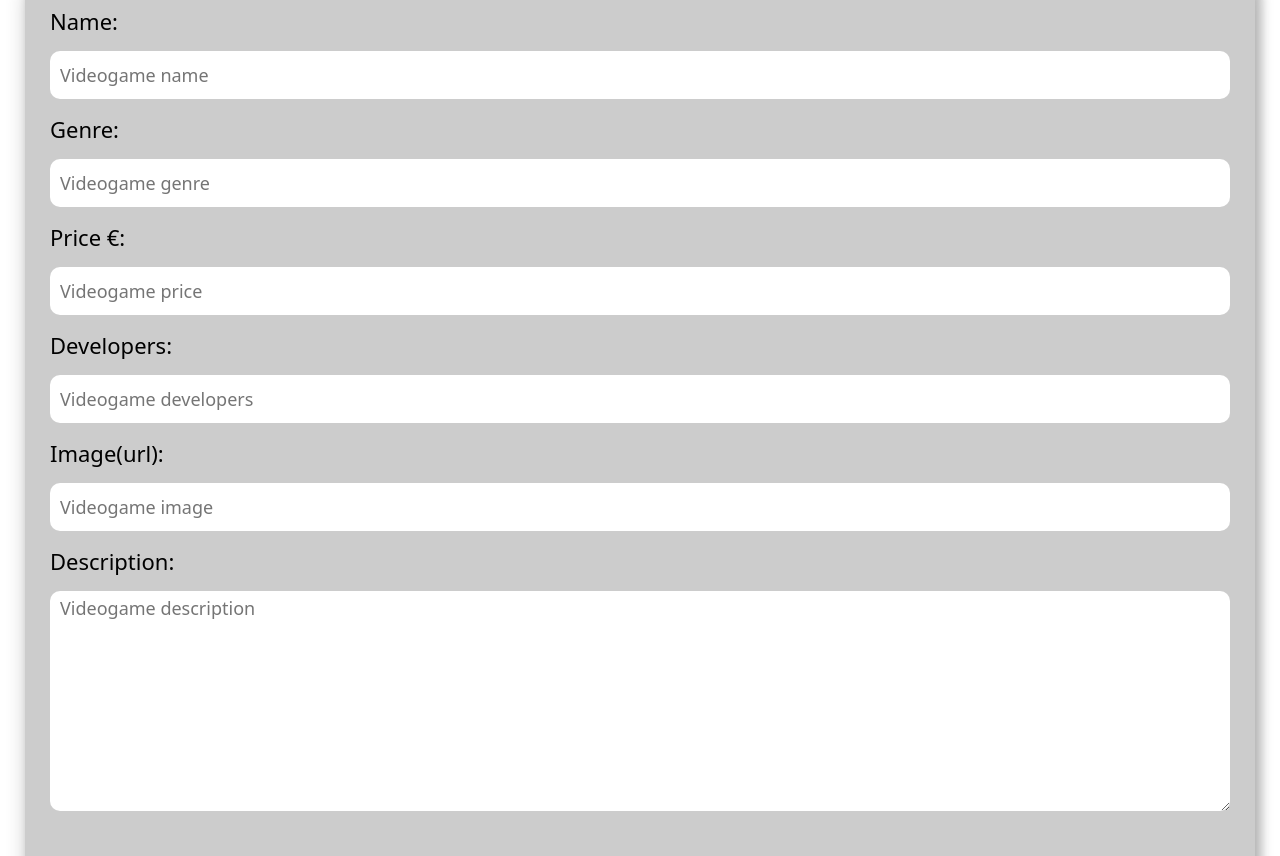
Test: Given a VideogameForm component › When it's rendered with all the inputs fields filled › Then it should show an enable button with the text 'Create'
The image size is (1280, 856).
In the field labelled "Name:": (640, 75) left=50, top=51, right=1230, bottom=99, type "text example"
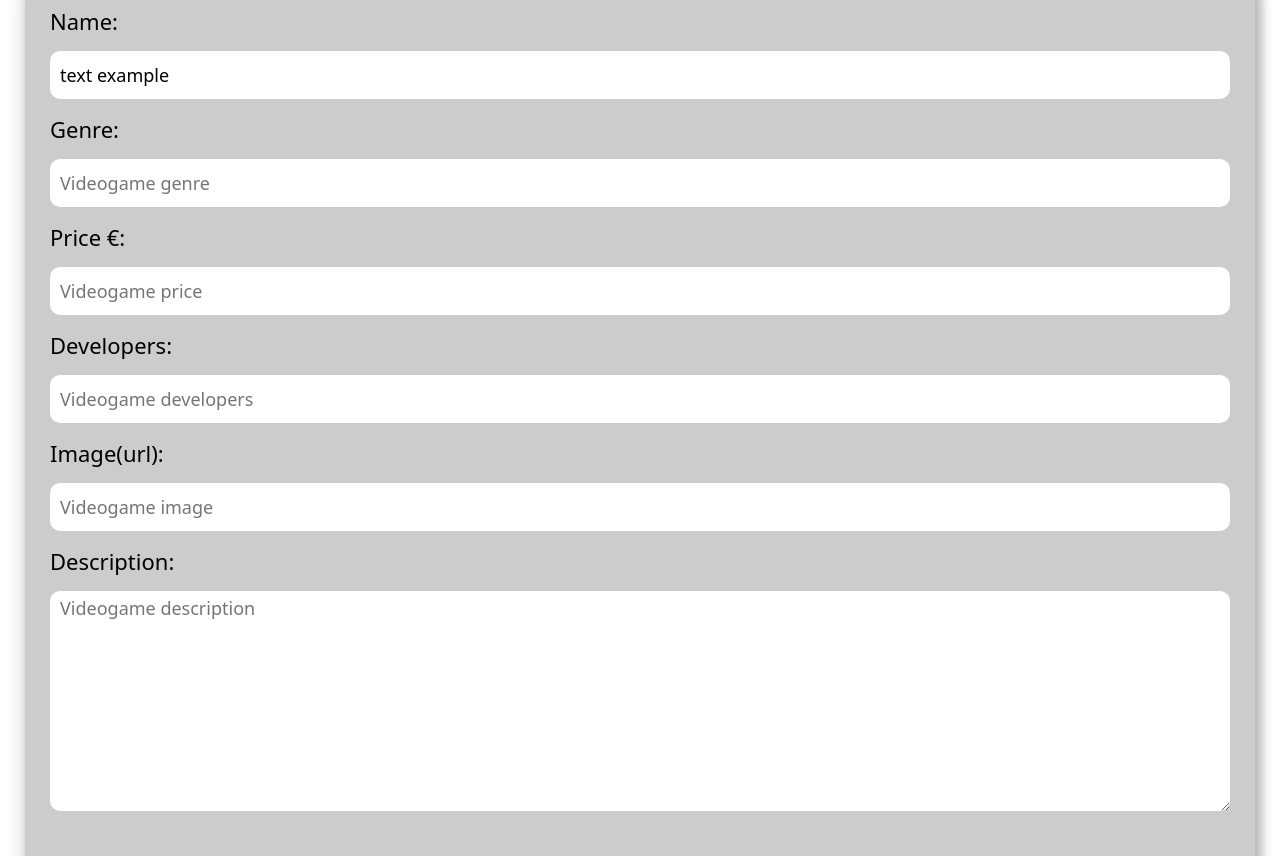
In the field labelled "Genre:": (640, 183) left=50, top=159, right=1230, bottom=207, type "text example"
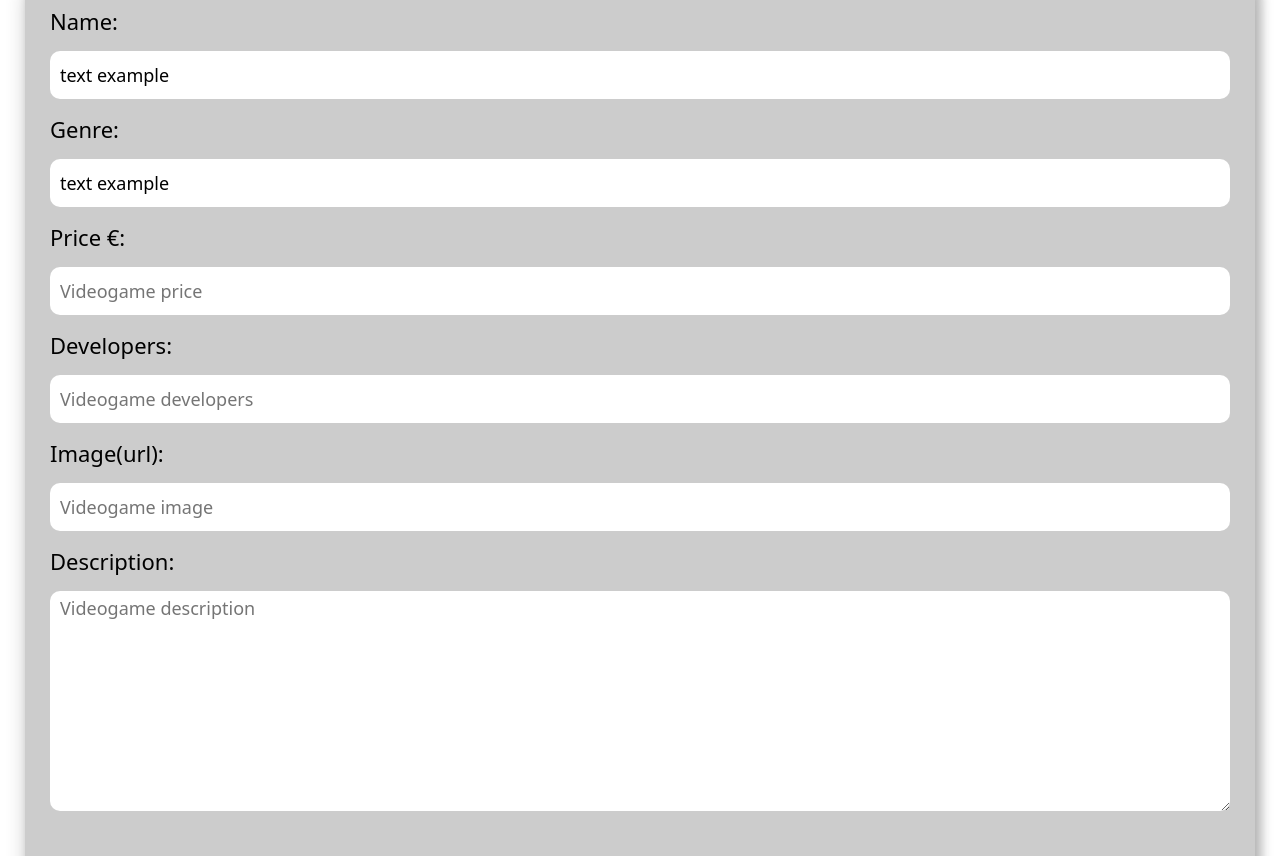
In the field labelled "Developers:": (640, 399) left=50, top=375, right=1230, bottom=423, type "text example"
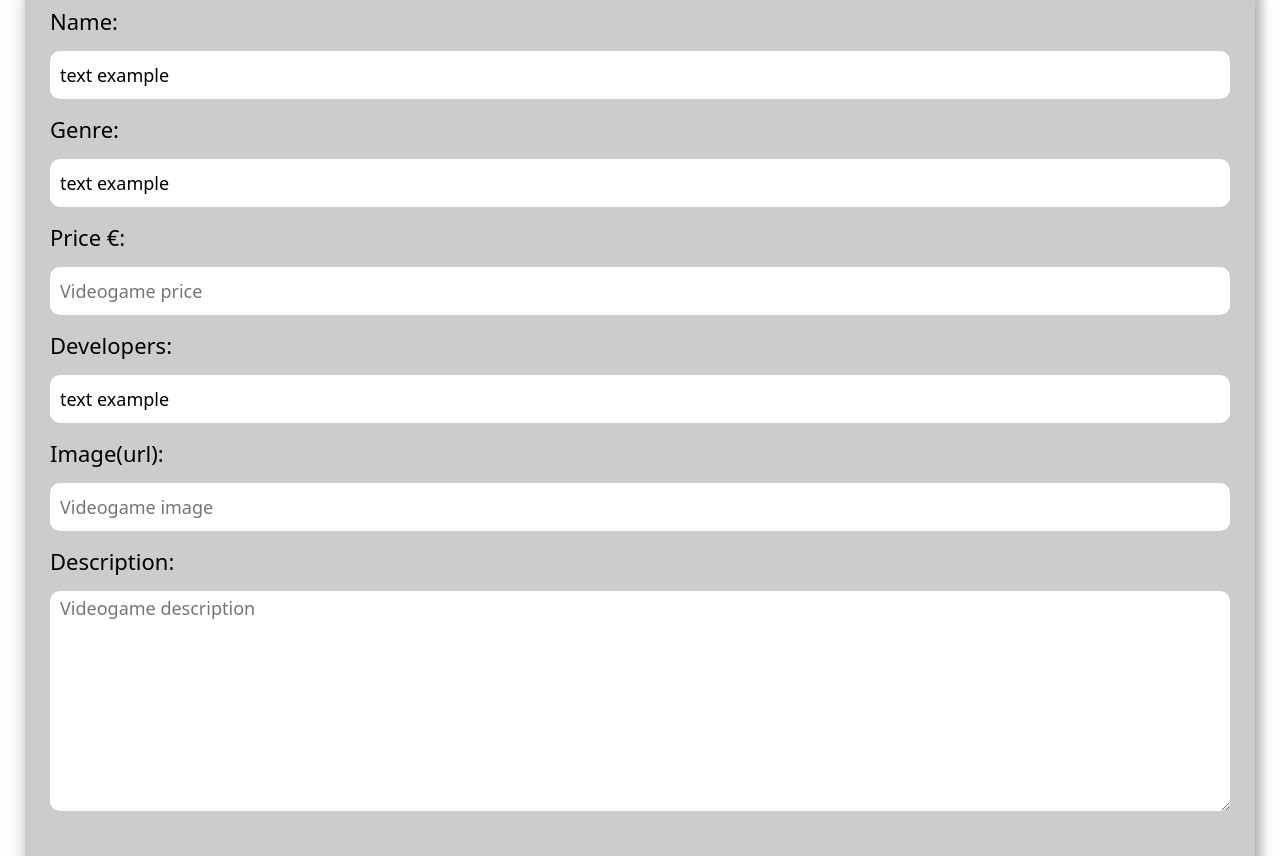
In the field labelled "Image(url):": (640, 507) left=50, top=483, right=1230, bottom=531, type "text example"
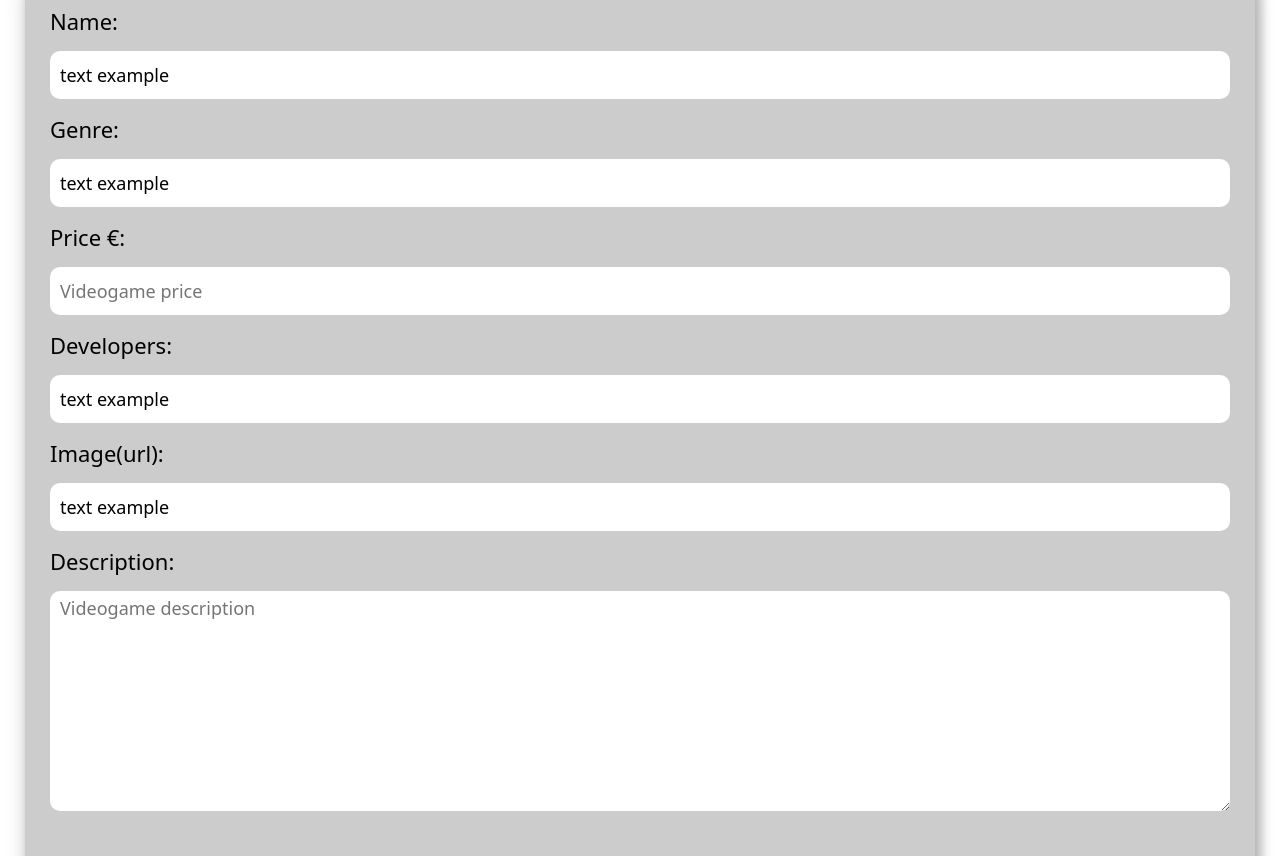
In the text box labelled "Description:": (640, 701) left=50, top=591, right=1230, bottom=811, type "text example"
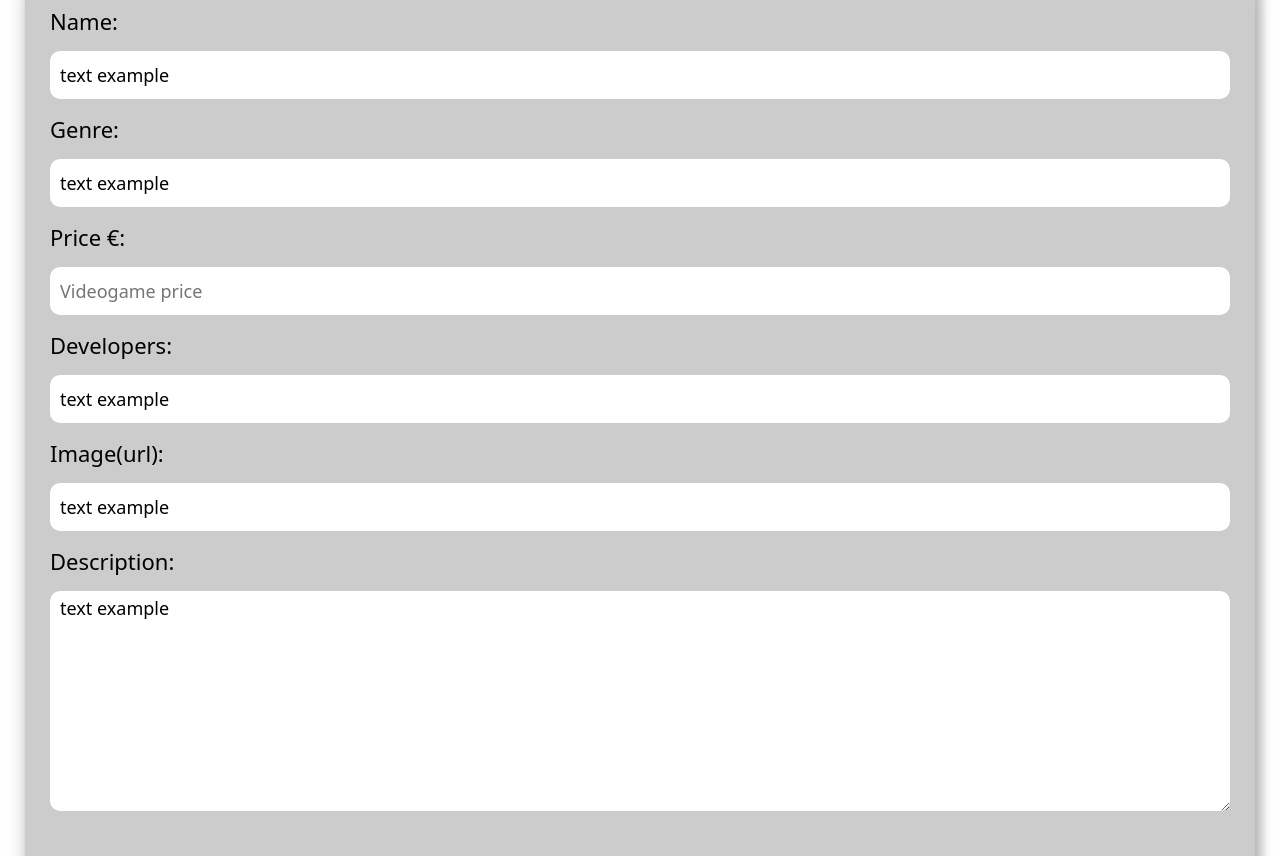
In the number field labelled "Price €:": (640, 291) left=50, top=267, right=1230, bottom=315, type "32"
(page scrolled)
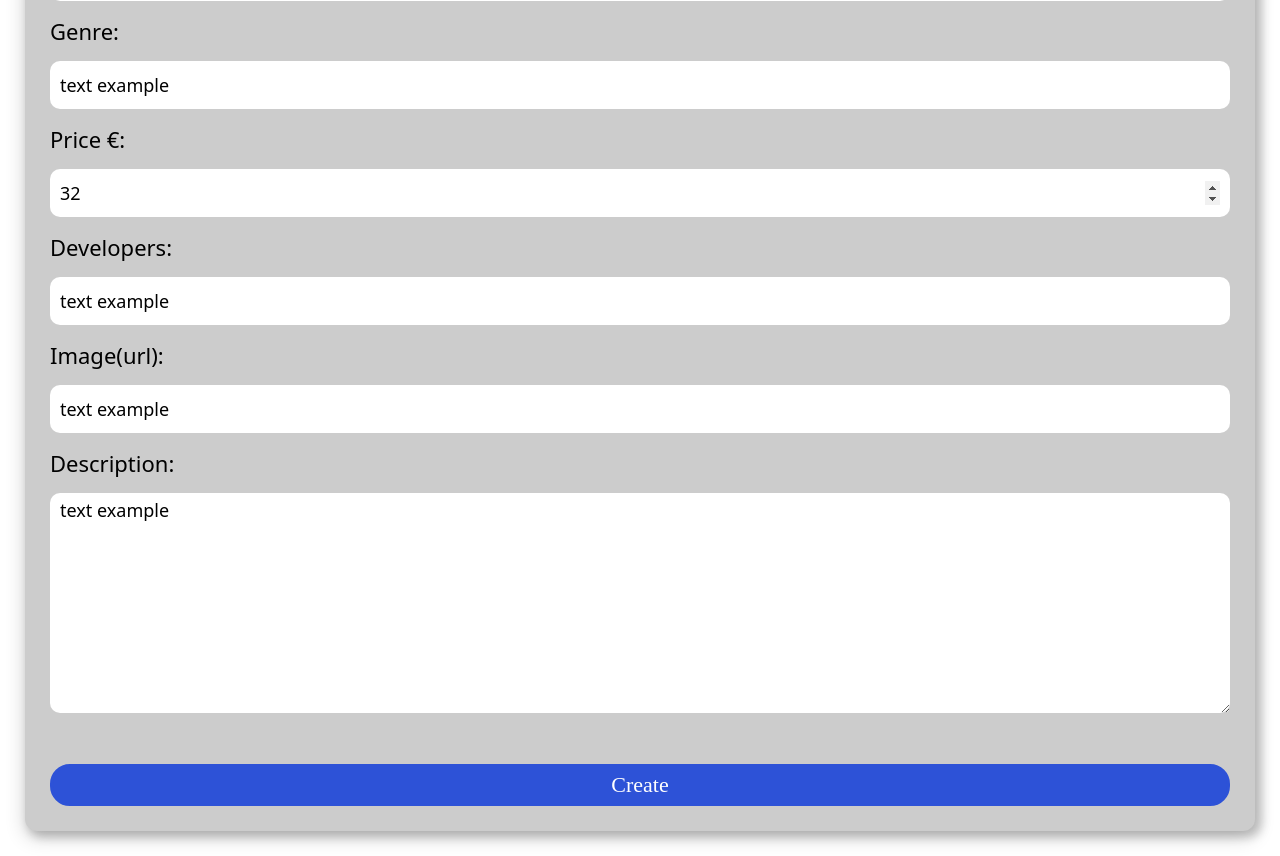
Now the button is enabled, box left=50, top=764, right=1230, bottom=806
